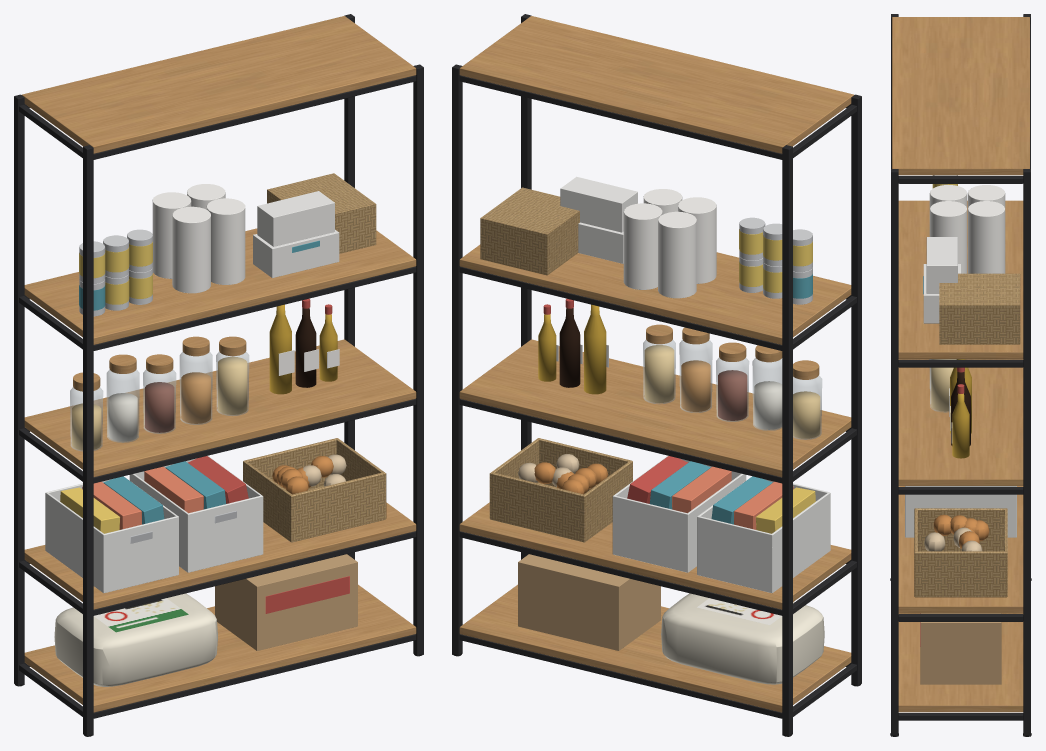
File: pantry_shelf.glb
3 views of the same model, side by side, from view 1: azimuth 30°, elevation 25°; view 2: azimuth 150°, elevation 25°; view 3: azimuth 270°, elevation 25° (orthographic). The views are drawn at different scales.
Visible parts, largest first — view 1: pantry_shelf_boards, pantry_shelf_frame, pantry_shelf_pantry_items, pantry_shelf_bins, pantry_shelf_rice_bag, pantry_shelf_jars, pantry_shelf_basket; view 2: pantry_shelf_boards, pantry_shelf_frame, pantry_shelf_pantry_items, pantry_shelf_bins, pantry_shelf_rice_bag, pantry_shelf_jars, pantry_shelf_basket; view 3: pantry_shelf_boards, pantry_shelf_frame, pantry_shelf_pantry_items, pantry_shelf_basket, pantry_shelf_rice_bag, pantry_shelf_jars, pantry_shelf_bins.
Part boxes in pixels (x1,y1,x2,y2): pantry_shelf_boards: (22, 16, 416, 712); pantry_shelf_frame: (14, 14, 423, 736); pantry_shelf_pantry_items: (79, 173, 376, 316); pantry_shelf_bins: (45, 455, 263, 593); pantry_shelf_rice_bag: (54, 554, 357, 686); pantry_shelf_jars: (70, 298, 339, 451); pantry_shelf_basket: (243, 438, 386, 542); pantry_shelf_boards: (459, 16, 853, 712); pantry_shelf_frame: (452, 14, 861, 736); pantry_shelf_pantry_items: (480, 176, 812, 304); pantry_shelf_bins: (612, 455, 830, 593); pantry_shelf_rice_bag: (518, 554, 824, 684); pantry_shelf_jars: (538, 298, 822, 439); pantry_shelf_basket: (489, 438, 632, 542); pantry_shelf_boards: (892, 17, 1029, 712); pantry_shelf_frame: (891, 14, 1030, 736); pantry_shelf_pantry_items: (923, 175, 1020, 344); pantry_shelf_basket: (914, 508, 1007, 597); pantry_shelf_rice_bag: (920, 613, 1001, 684); pantry_shelf_jars: (929, 359, 971, 458); pantry_shelf_bins: (905, 486, 1016, 537).
Bounding box in the file's own units: 1.2 × 2 × 0.453.
Materials: 25 (3 with a texture image).
